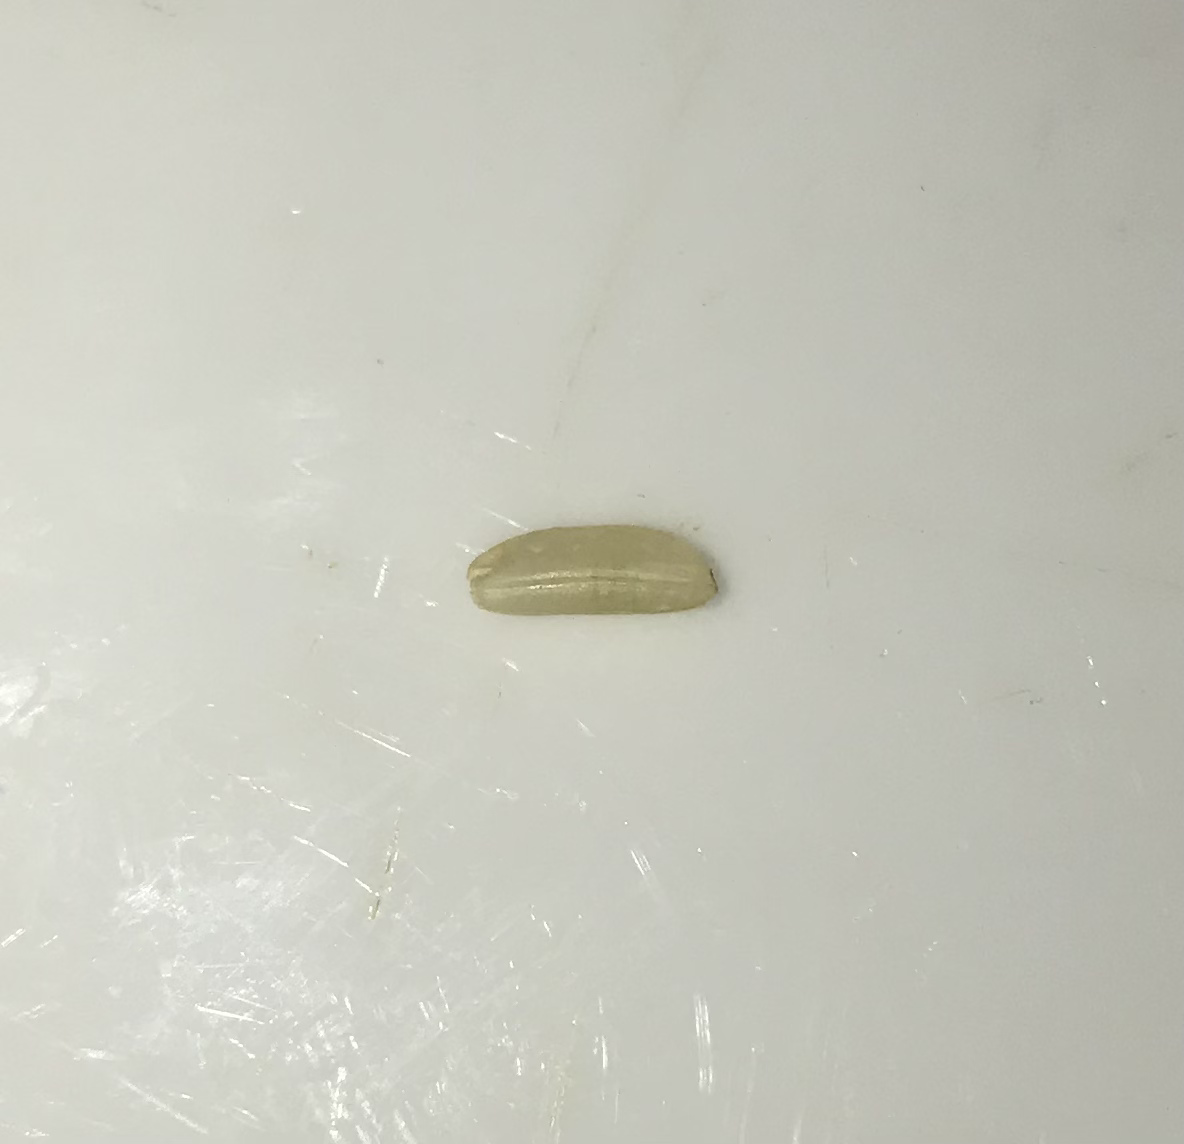Gao Lut Trang: (451, 513, 750, 633)
